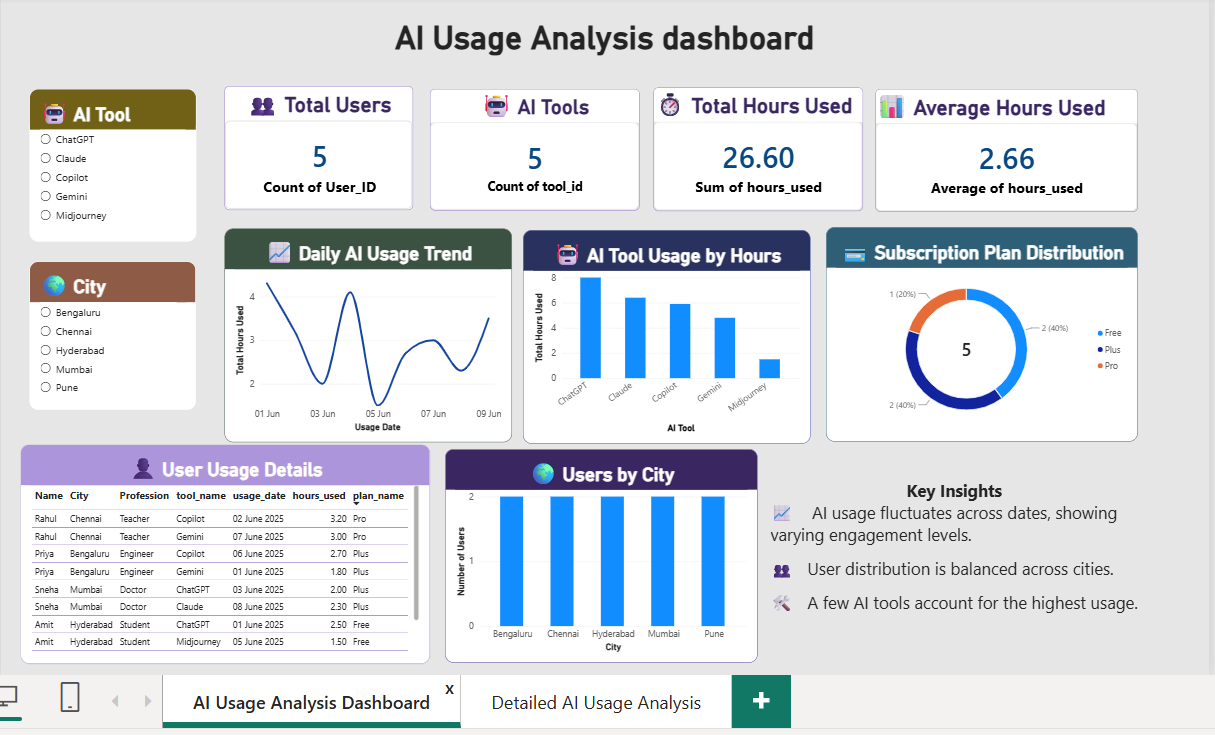

The page's visual inventory and layout, read from the dashboard file:
{"tool":"powerbi","page":{"name":"AI Usage Analysis Dashboard","canvas":[1920,1080],"ordinal":0},"visuals":[{"type":"cardVisual","title":"👥 Total Users","fields":{"Data":["CountNonNull(ai_usage_analysis users.User_ID)"]},"box":[355.5,143.2,300,197.5],"z":0},{"type":"cardVisual","title":"🤖 AI Tools","fields":{"Data":["CountNonNull(ai_usage_analysis ai_tools.tool_id)"]},"box":[682.4,147.9,333.3,193.3],"z":1000},{"type":"cardVisual","title":"⏱️ Total Hours Used","fields":{"Data":["Sum(ai_usage_analysis usage_logs.hours_used)"]},"box":[1037.9,145.5,333.3,196.7],"z":2000},{"type":"cardVisual","title":"📊 Average Hours Used","fields":{"Data":["Avg(ai_usage_analysis usage_logs.hours_used)"]},"box":[1391,147.9,417.5,195.6],"z":3000},{"type":"clusteredColumnChart","title":"🤖 AI Tool Usage by Hours","fields":{"Category":["ai_usage_analysis ai_tools.tool_name"],"Y":["Sum(ai_usage_analysis usage_logs.hours_used)"]},"box":[830.3,372.2,457.5,340],"z":4000},{"type":"donutChart","title":"💳 Subscription Plan Distribution","fields":{"Category":["ai_usage_analysis subscriptions.plan_name"],"Y":["CountNonNull(ai_usage_analysis subscriptions.user_id)"]},"box":[1312.3,367.4,496.3,341.2],"z":5000},{"type":"lineChart","title":"📈 Daily AI Usage Trend","fields":{"Category":["ai_usage_analysis usage_logs.usage_date.Variation.Date Hierarchy.Year","ai_usage_analysis usage_logs.usage_date.Variation.Date Hierarchy.Quarter","ai_usage_analysis usage_logs.usage_date.Variation.Date Hierarchy.Month","ai_usage_analysis usage_logs.usage_date.Variation.Date Hierarchy.Day"],"Y":["Sum(ai_usage_analysis usage_logs.hours_used)"]},"box":[355.5,369.8,457.5,340],"z":6000},{"type":"clusteredColumnChart","title":"🌍 Users by City","fields":{"Category":["ai_usage_analysis users.City"],"Y":["CountNonNull(ai_usage_analysis usage_logs.user_id)"]},"box":[706.2,720.5,497.5,340],"z":7000},{"type":"listSlicer","title":"🌍 City","fields":{"Values":["ai_usage_analysis users.City"]},"box":[45.3,422.3,264.8,236.2],"z":8000},{"type":"listSlicer","title":"🤖 AI Tool","fields":{"Values":["ai_usage_analysis ai_tools.tool_name"]},"box":[45.3,147.9,265,242.5],"z":9000},{"type":"tableEx","title":"👤 User Usage Details","fields":{"Values":["ai_usage_analysis users.Name","ai_usage_analysis users.City","ai_usage_analysis users.Profession","ai_usage_analysis ai_tools.tool_name","ai_usage_analysis usage_logs.usage_date","ai_usage_analysis usage_logs.hours_used","ai_usage_analysis subscriptions.plan_name"]},"box":[31,713.4,651.4,348.3],"z":10000},{"type":"textbox","title":"AI Usage Analysis dashboard","box":[0,35.8,1920,112.5],"z":11000},{"type":"textbox","box":[1224,768.3,584.5,269.6],"z":12000}]}

Visuals, with their boxes on the page's 1920x1080 design canvas (x1, y1, x2, y2). These are canvas units, not pixel positions in the 1215x735 screenshot, which may show the page scaled, cropped or inside an application window:
"👥 Total Users" cardVisual: locate(356, 143, 656, 341)
"🤖 AI Tools" cardVisual: locate(682, 148, 1016, 341)
"⏱️ Total Hours Used" cardVisual: locate(1038, 146, 1371, 342)
"📊 Average Hours Used" cardVisual: locate(1391, 148, 1808, 344)
"🤖 AI Tool Usage by Hours" clusteredColumnChart: locate(830, 372, 1288, 712)
"💳 Subscription Plan Distribution" donutChart: locate(1312, 367, 1809, 709)
"📈 Daily AI Usage Trend" lineChart: locate(356, 370, 813, 710)
"🌍 Users by City" clusteredColumnChart: locate(706, 720, 1204, 1060)
"🌍 City" listSlicer: locate(45, 422, 310, 658)
"🤖 AI Tool" listSlicer: locate(45, 148, 310, 390)
"👤 User Usage Details" tableEx: locate(31, 713, 682, 1062)
"AI Usage Analysis dashboard" textbox: locate(0, 36, 1920, 148)
textbox: locate(1224, 768, 1808, 1038)
